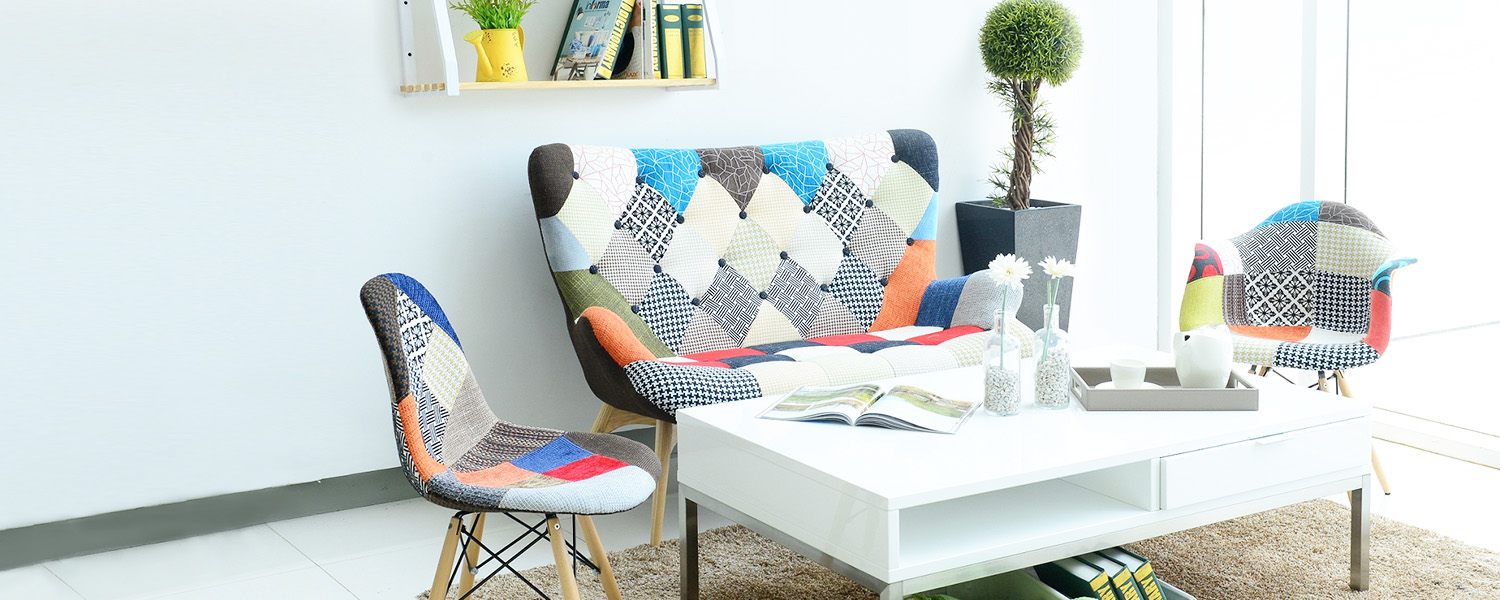kursi: (360, 274, 653, 600), (1178, 199, 1411, 501)
meja: (673, 366, 1375, 600)
sova: (524, 140, 1047, 375)
tanaman: (961, 3, 1073, 203), (977, 253, 1035, 420), (1026, 255, 1085, 417), (461, 1, 537, 84)
